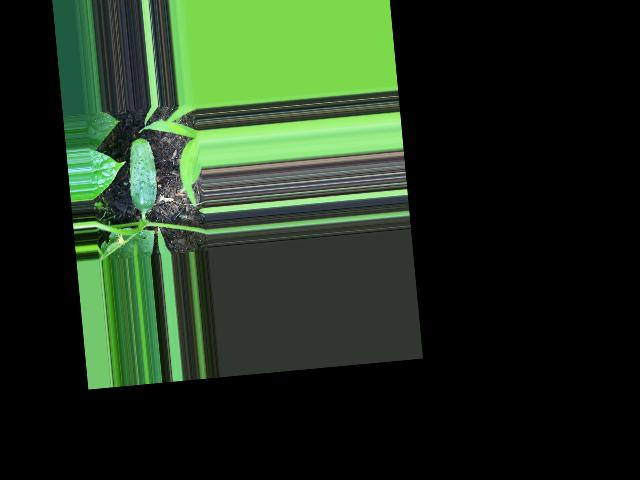cucumber: (125, 136, 160, 212)
